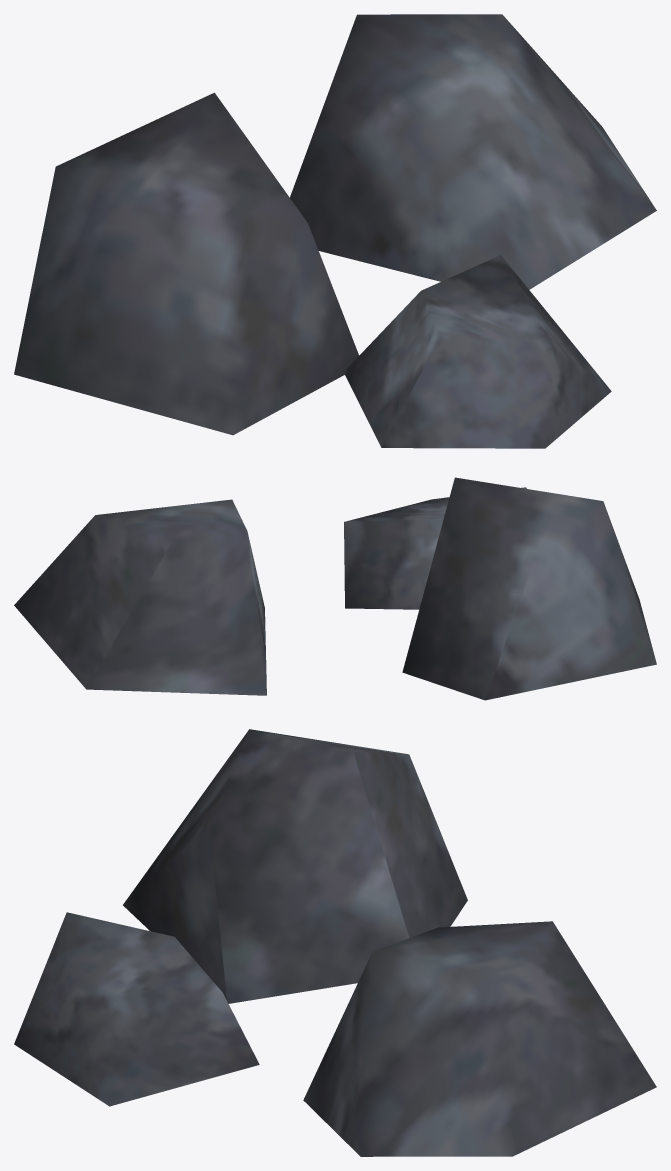
The model's file is menu_object_signposts.fbx.
3 views of the same model, one above another, from view 1: azimuth 30°, elevation 25°; view 2: azimuth 150°, elevation 25°; view 3: azimuth 270°, elevation 25° (orthographic). The views are drawn at different scales.
Parts seen in each view (by area): view 1: Material_#238683041/mine_signpost_large01; view 2: Material_#238683041/mine_signpost_large01; view 3: Material_#238683041/mine_signpost_large01.
Part boxes in pixels (bbox=[...]): Material_#238683041/mine_signpost_large01: bbox=[14, 14, 656, 448]; Material_#238683041/mine_signpost_large01: bbox=[14, 477, 656, 700]; Material_#238683041/mine_signpost_large01: bbox=[14, 729, 656, 1156].
Size of the model in its own units: 0.6384 by 0.2284 by 0.5567.
